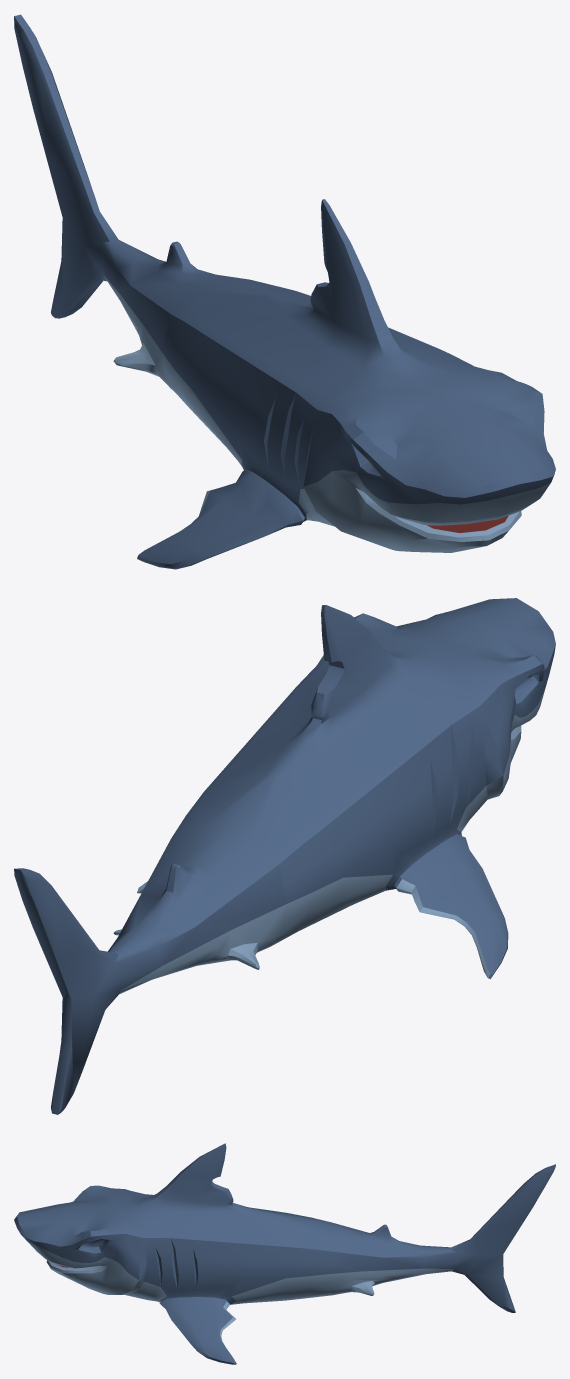
The model's file is cc0-shark-lod0.glb.
3 renders of one model, top to bottom at view 1: azimuth 30°, elevation 25°; view 2: azimuth 150°, elevation 25°; view 3: azimuth 270°, elevation 25°, orthographic. The views are drawn at different scales.
Visible parts, largest first — view 1: part_13; view 2: part_13; view 3: part_13.
Part boxes in pixels (<box>): part_13: <box>14,14,555,569</box>; part_13: <box>14,598,555,1114</box>; part_13: <box>14,1143,555,1364</box>.
Bounding box in the file's own units: 2.3 × 2.01 × 5.63.
